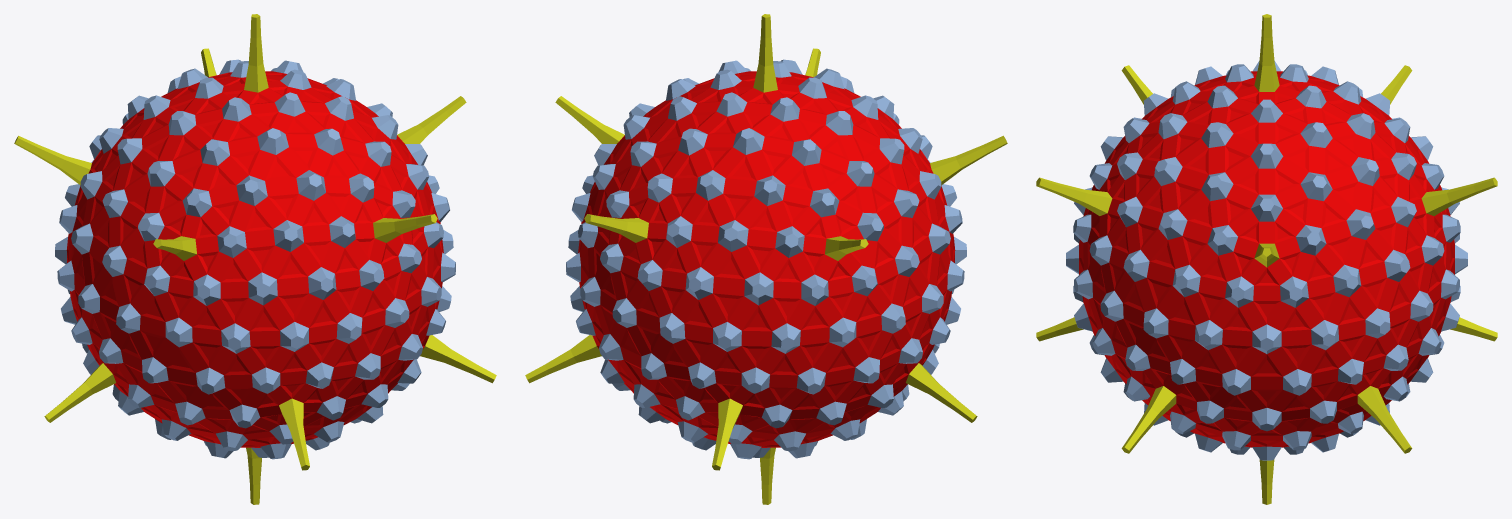
The model's file is corona.fbx.
3 views of the same model, side by side, from view 1: azimuth 30°, elevation 25°; view 2: azimuth 150°, elevation 25°; view 3: azimuth 270°, elevation 25° (orthographic).
Visible parts, largest first — view 1: Icosphere; view 2: Icosphere; view 3: Icosphere.
Boxes of the visible parts, x1,y1,x2,y2 form: Icosphere: (14, 14, 496, 504); Icosphere: (525, 14, 1007, 504); Icosphere: (1036, 14, 1497, 504).
Size of the model in its own units: 255 by 283 by 243.
